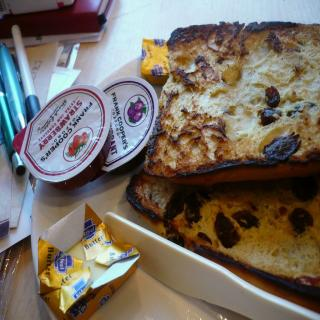Pizza: (143, 20, 320, 172), (126, 167, 320, 293)
